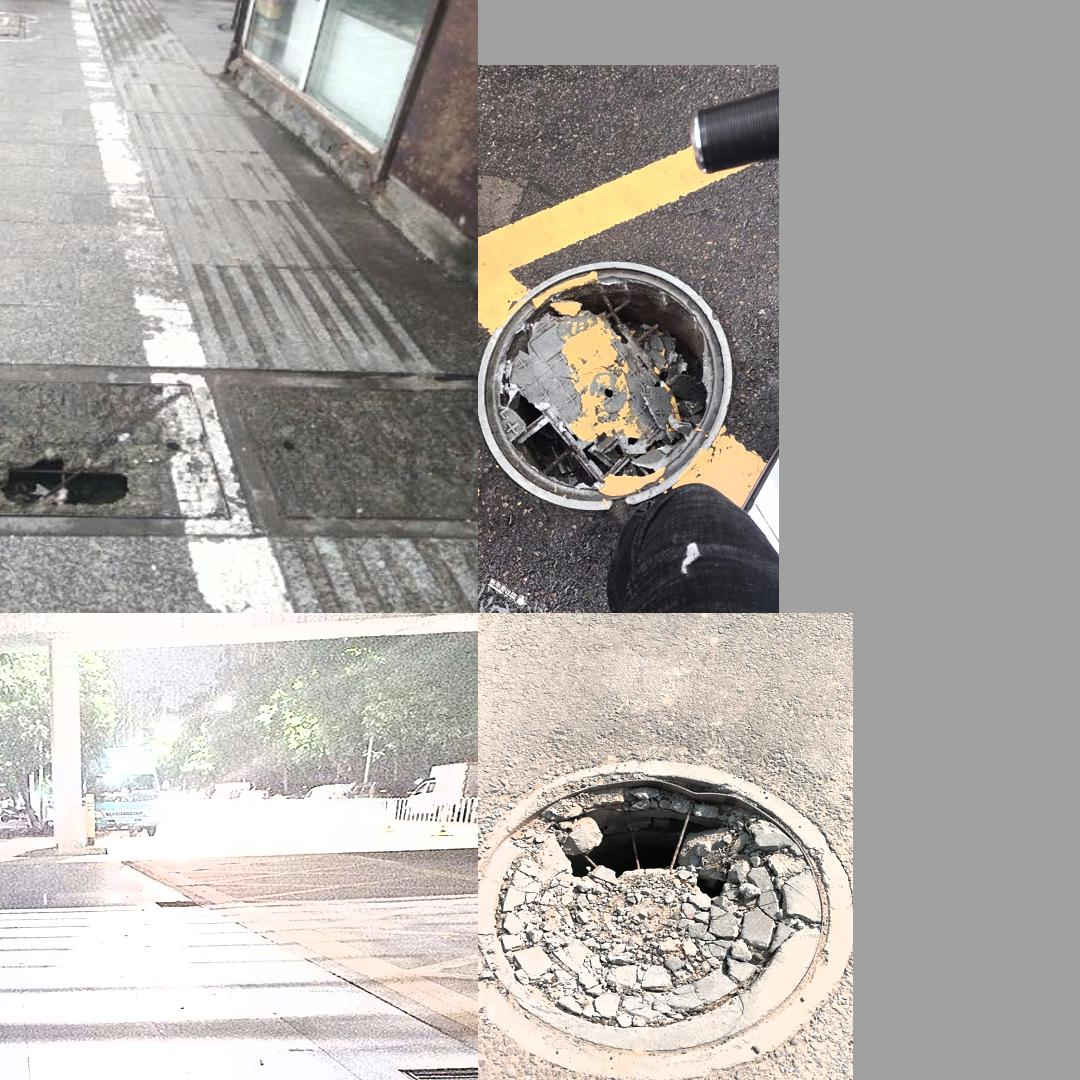broke: (478, 763, 853, 1080), (490, 243, 745, 507), (0, 363, 256, 539)
good: (211, 369, 476, 533)
